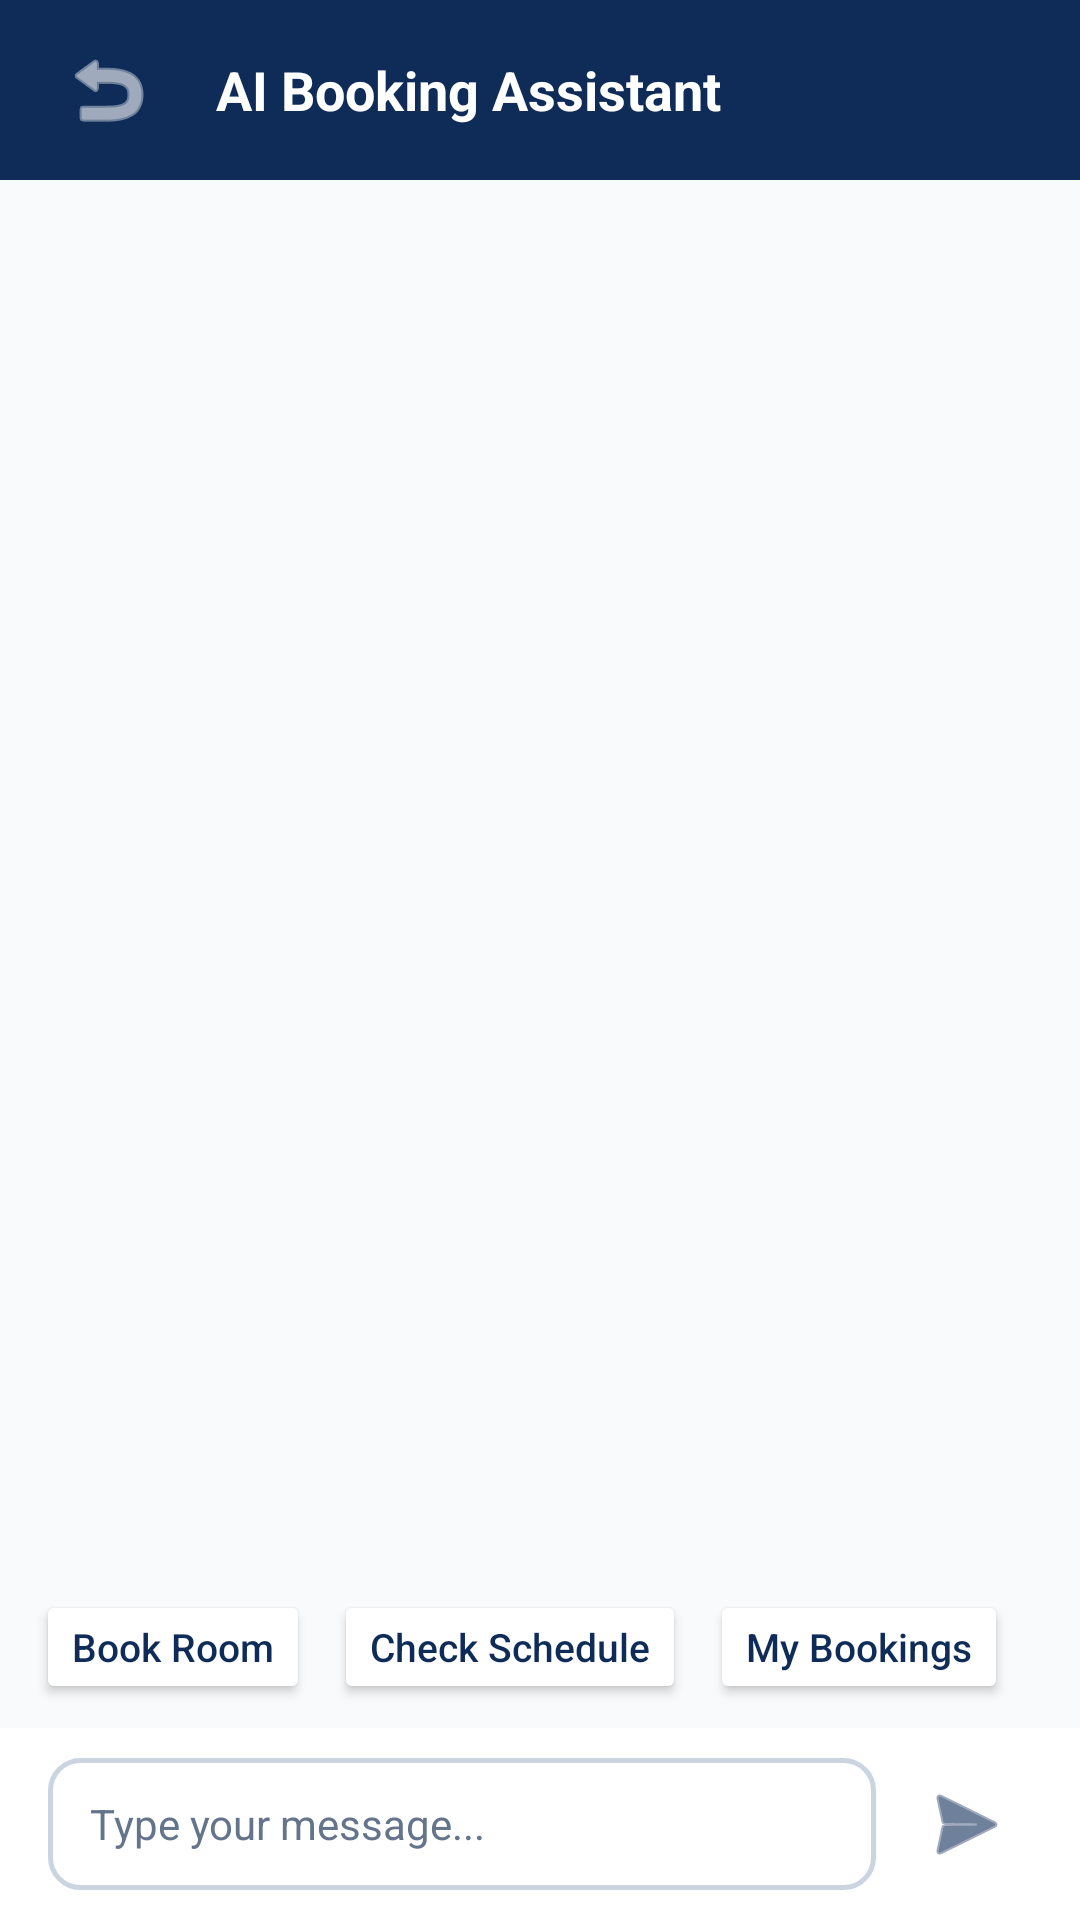

Screen size 1080*1920. Icon name, then its center in pixels as (x,y):
Back: (109,90)
Send: (967,1824)
